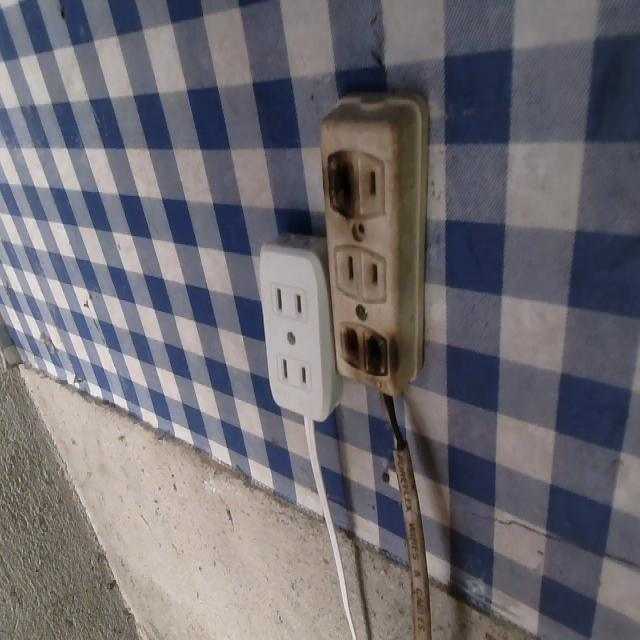-: (333, 320, 399, 400), (318, 149, 359, 227)
